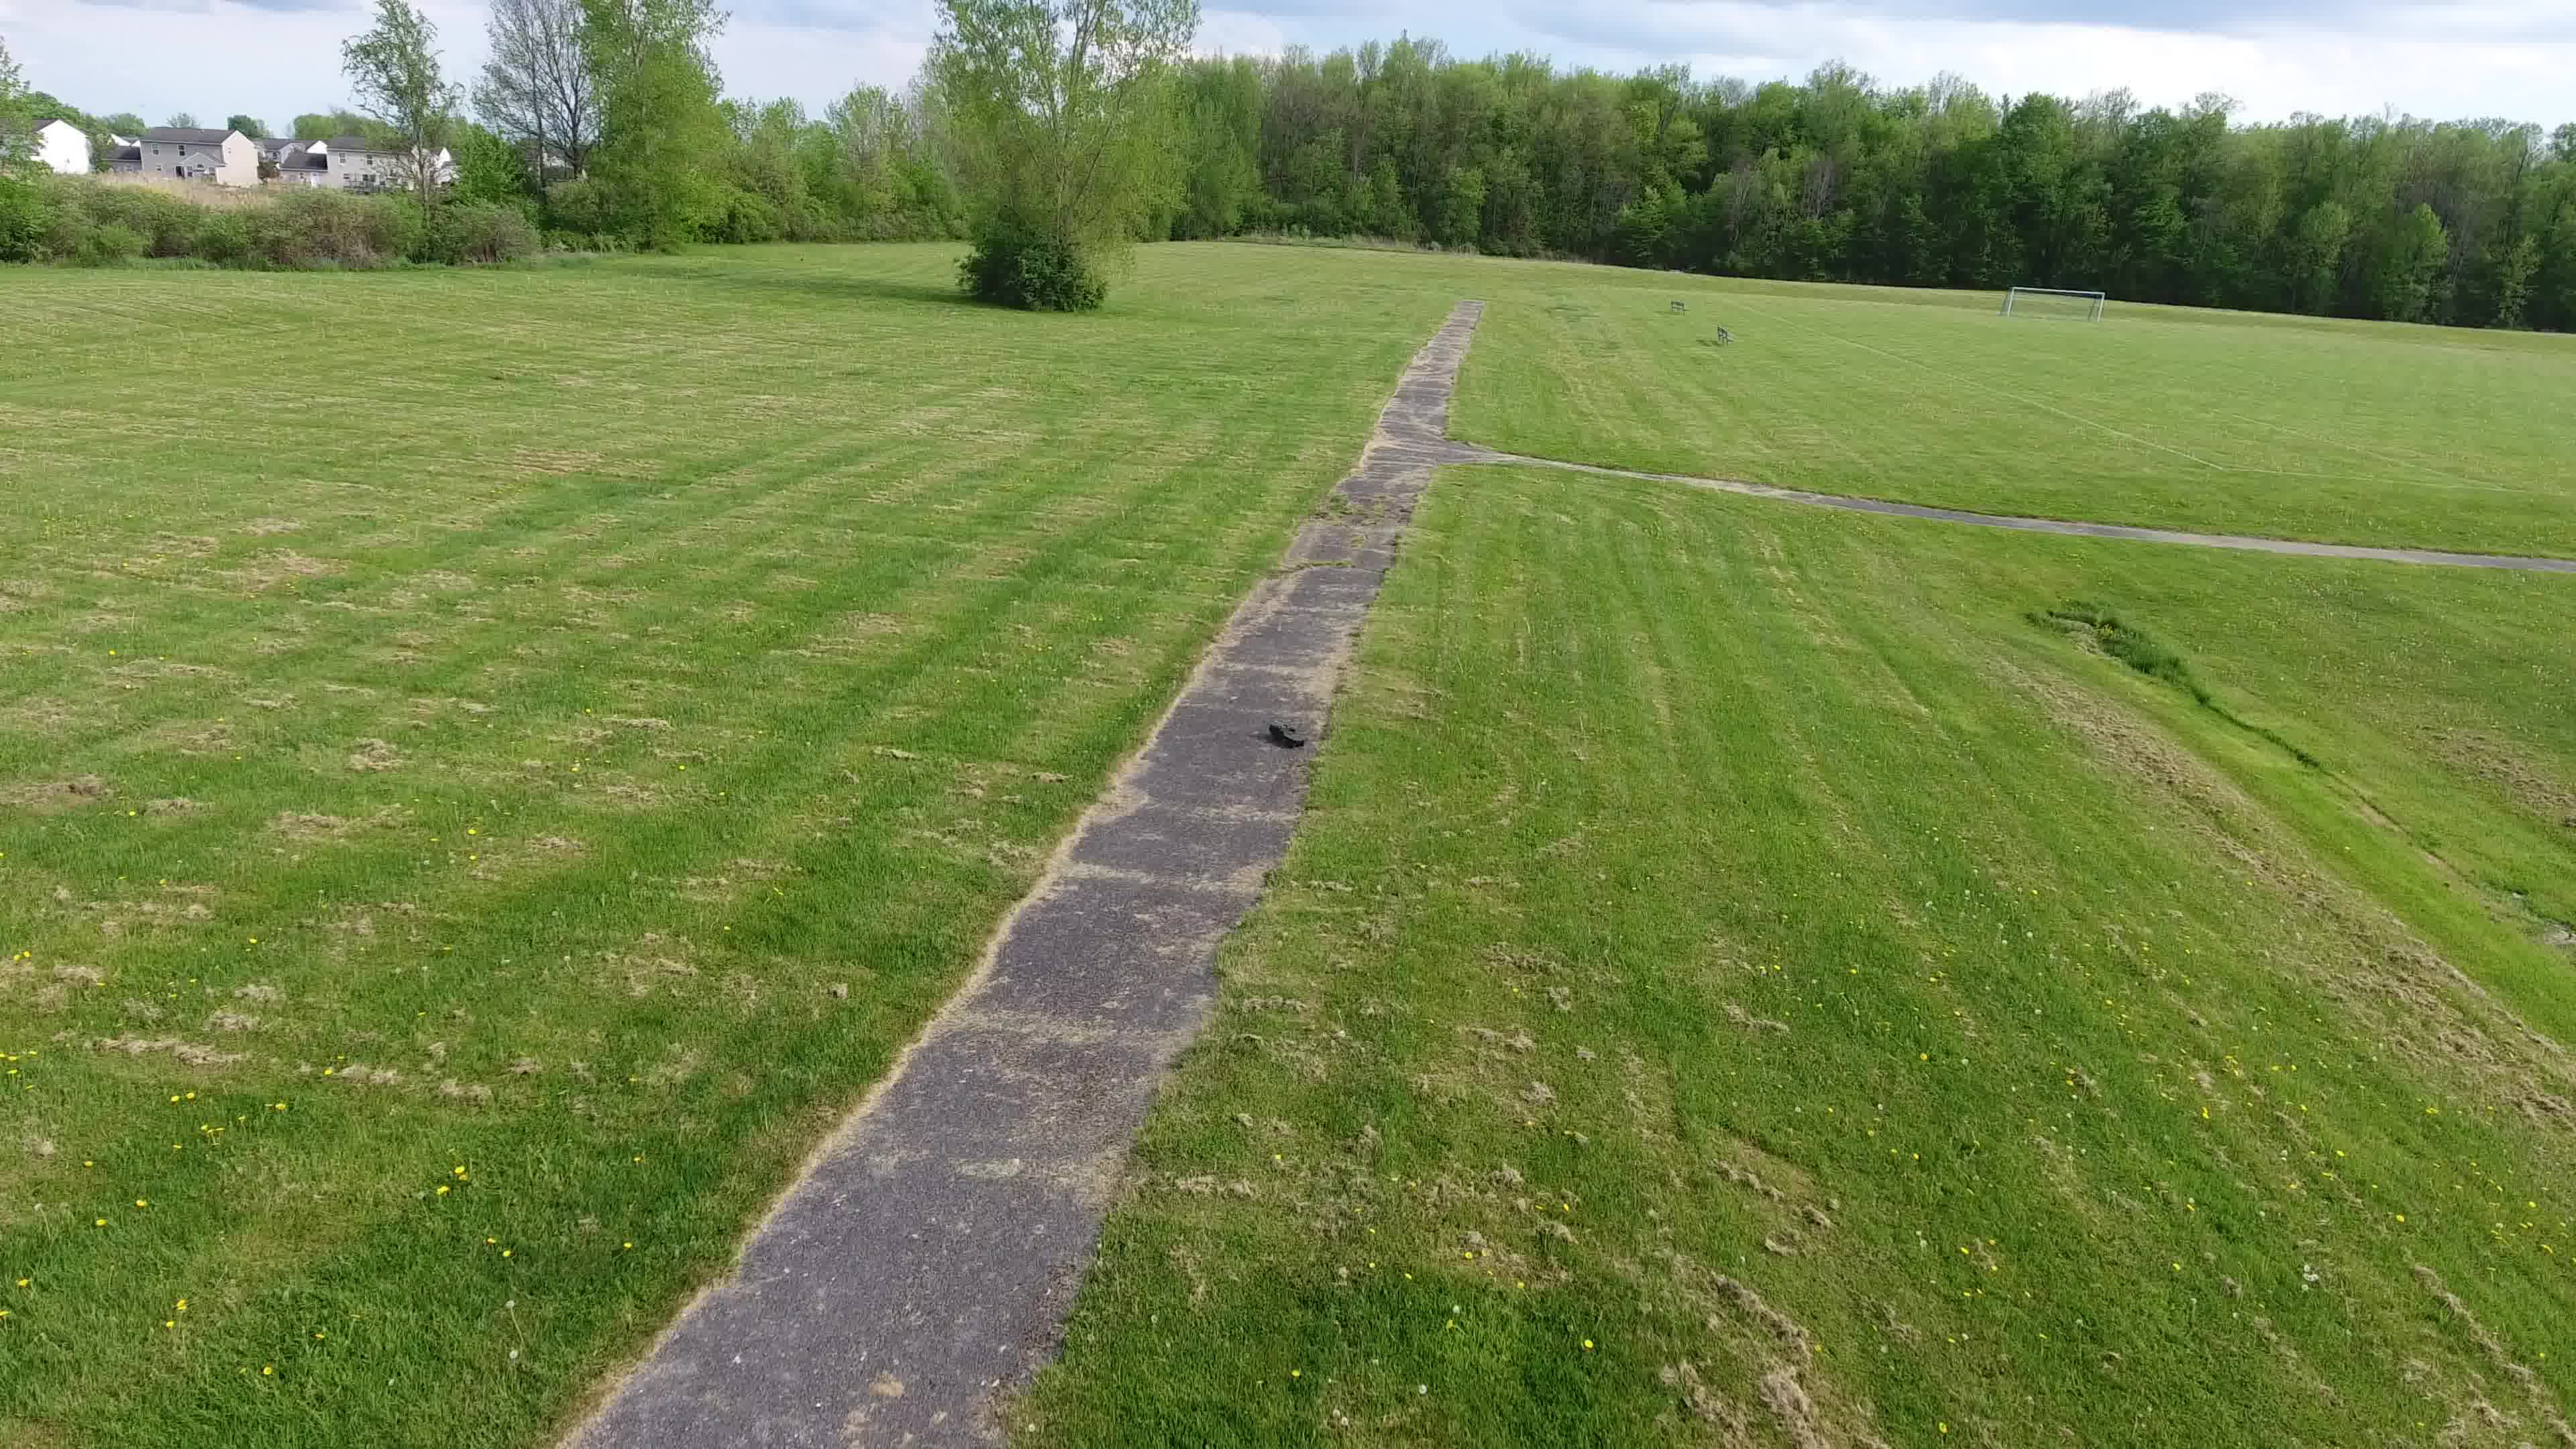transporter9: (1265, 720, 1307, 750)
